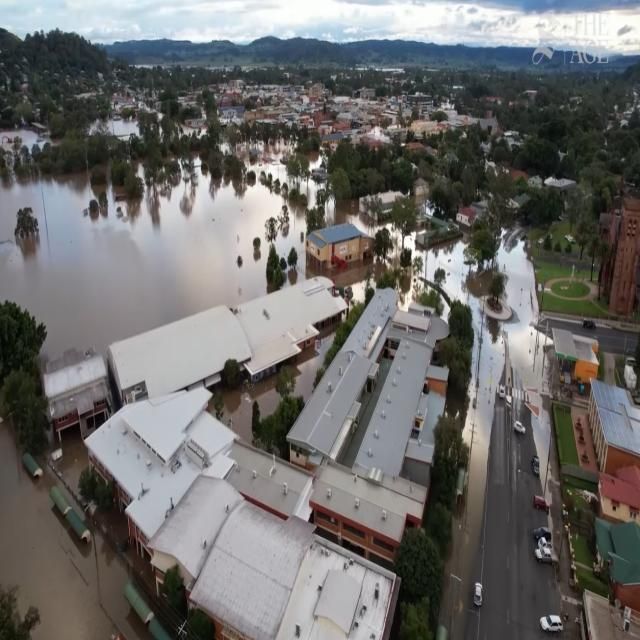flood: (0, 164, 286, 356), (416, 239, 507, 640), (0, 426, 126, 640), (498, 229, 546, 392), (262, 145, 326, 208), (325, 196, 374, 234), (279, 207, 305, 278), (0, 129, 48, 150), (107, 120, 139, 138), (306, 151, 324, 170)
house: (105, 302, 252, 413), (231, 276, 336, 384), (287, 338, 367, 466), (310, 464, 408, 562), (161, 470, 230, 597), (40, 344, 110, 450), (595, 374, 640, 532), (224, 443, 316, 520), (598, 506, 640, 620), (598, 198, 640, 312), (304, 218, 365, 277), (547, 324, 599, 392), (456, 206, 477, 229)
